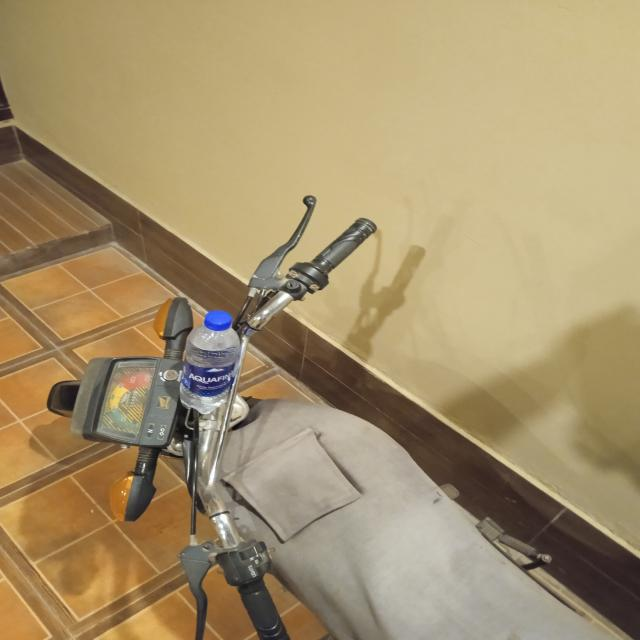Plastic: (182, 309, 242, 409)
